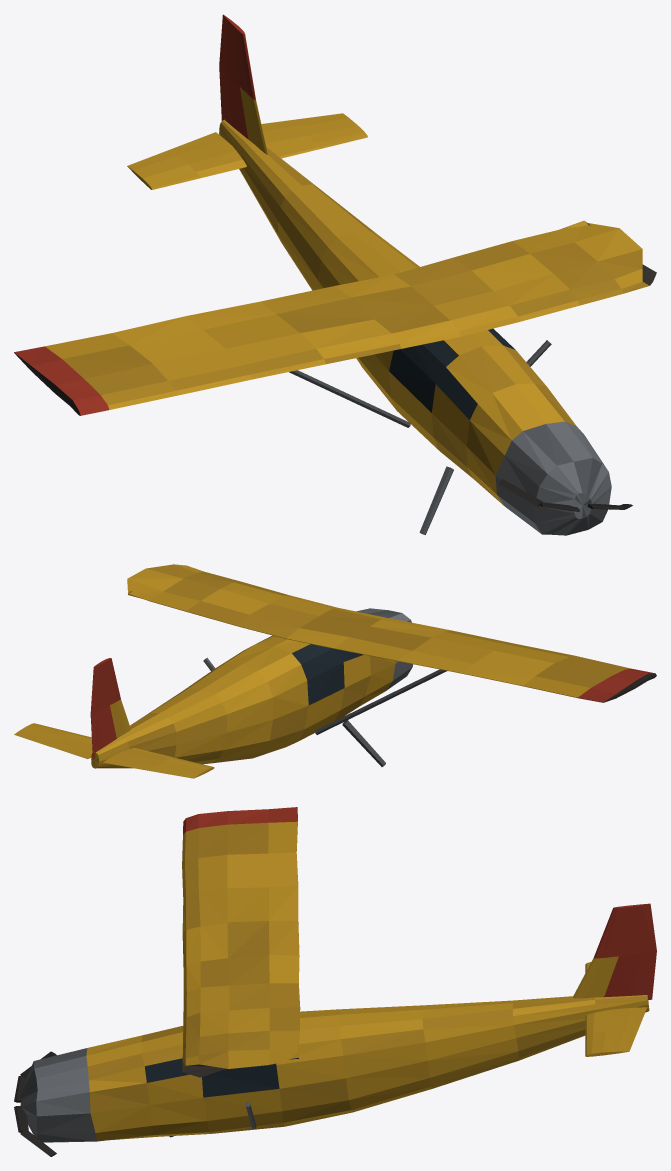
3 views of the same model, one above another, from view 1: azimuth 30°, elevation 25°; view 2: azimuth 150°, elevation 25°; view 3: azimuth 270°, elevation 25° (orthographic). The views are drawn at different scales.
Visible parts, largest first — view 1: plane; view 2: plane; view 3: plane.
Part boxes in pixels (x1,y1,x2,y2): plane: (14, 14, 656, 535); plane: (14, 564, 656, 778); plane: (14, 807, 656, 1156).
Bounding box in the file's own units: 7.92 × 3.88 × 8.55.
